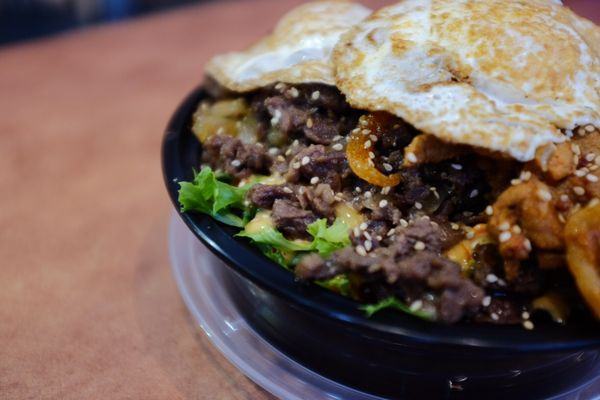sushi: (160, 1, 599, 390)
